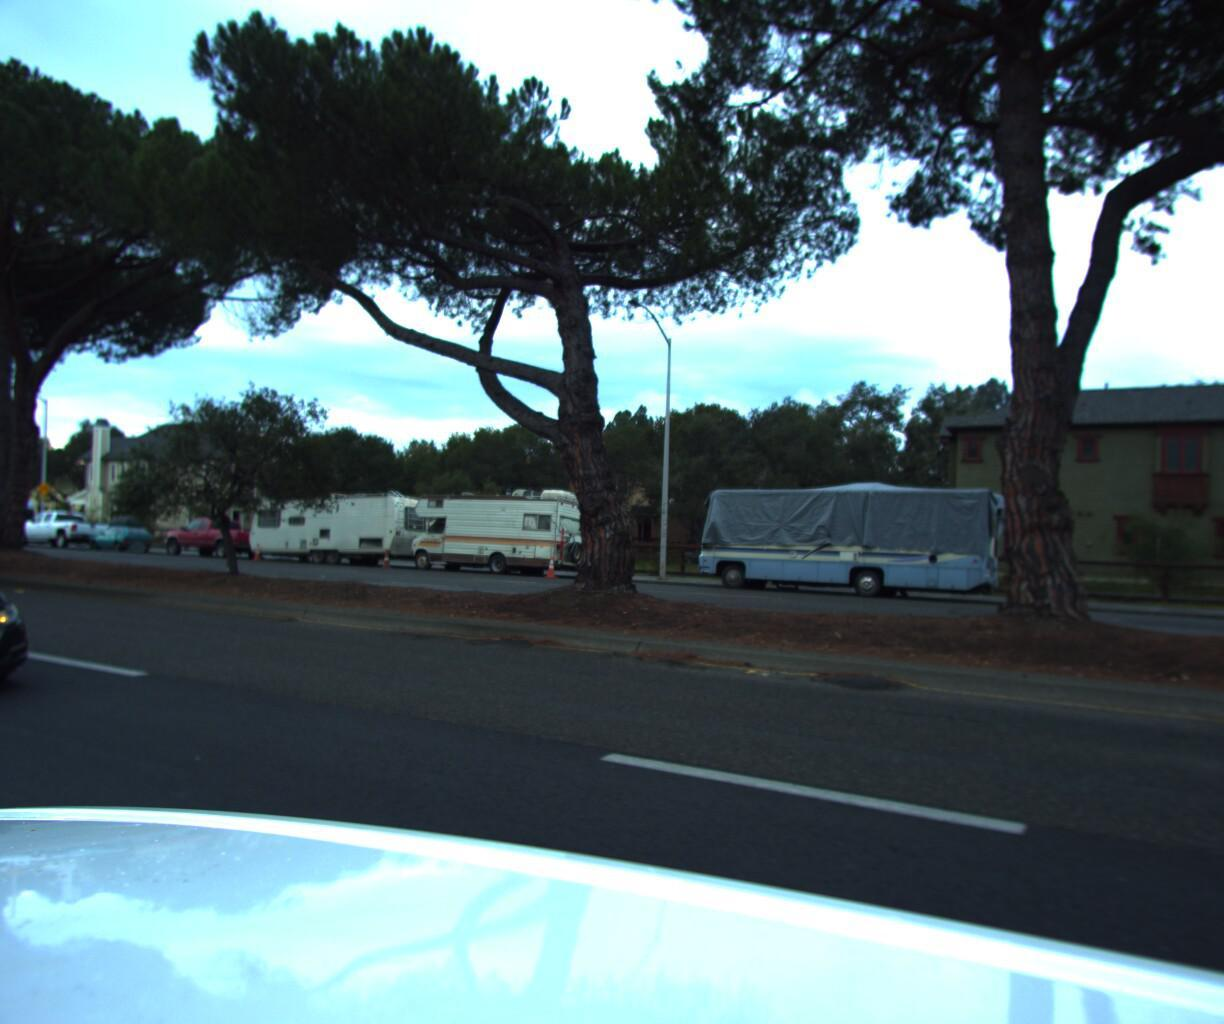bus: (685, 469, 1014, 612)
car: (0, 505, 62, 727), (162, 509, 276, 555), (10, 502, 116, 546), (77, 510, 156, 548)
other_vehicle: (402, 482, 598, 578), (239, 480, 447, 565)
truck: (0, 413, 1, 595)
